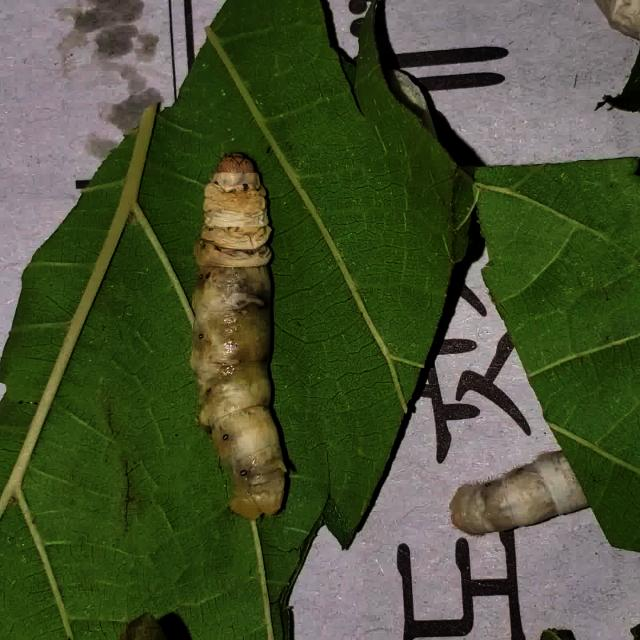Grasserie: (161, 136, 309, 524)
